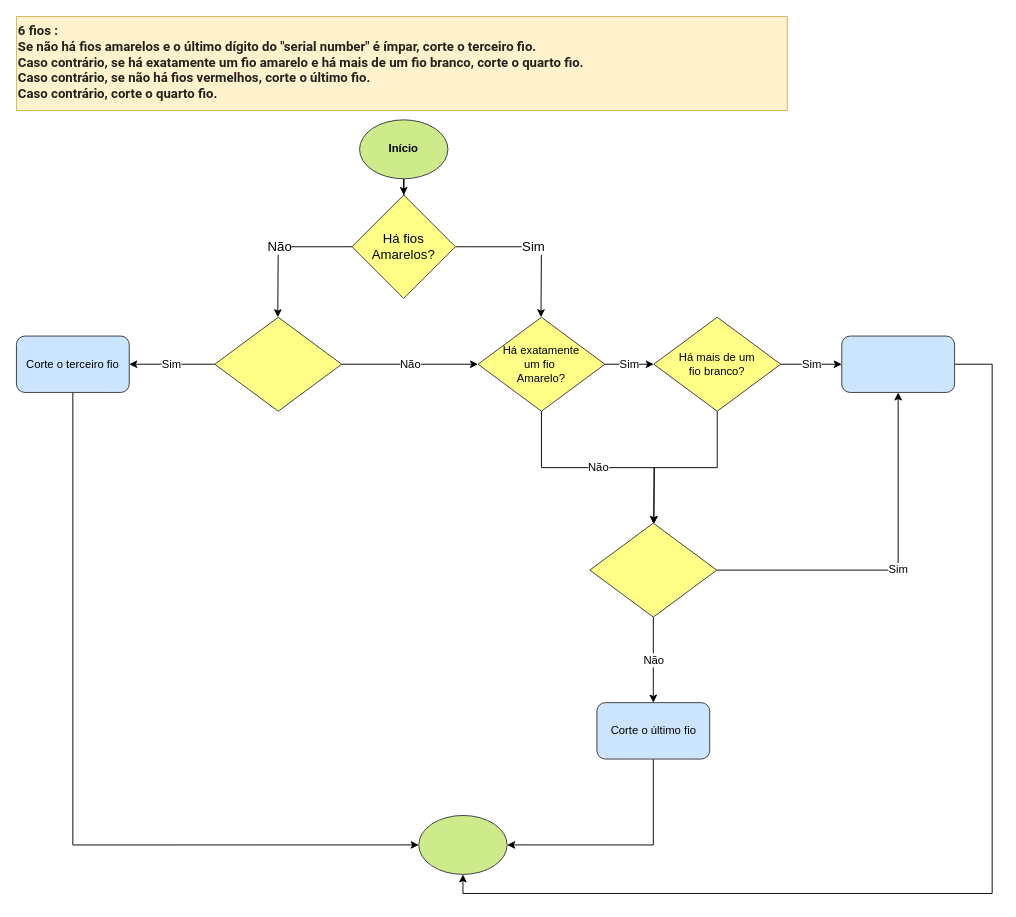
The diagram is 1016 pixels wide and 917 high, and some of its shapes have lost their labels. Here are the shapes that lost their labels. From the top down, the box of each, then its label:
(214, 316, 342, 411): O último Dígito do "serial number" é impar?
(841, 335, 955, 392): Corte o quarto fio
(589, 522, 717, 617): Há fios vermelhos?
(418, 815, 507, 874): Fim
